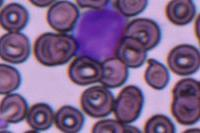L: (74, 4, 128, 60)
